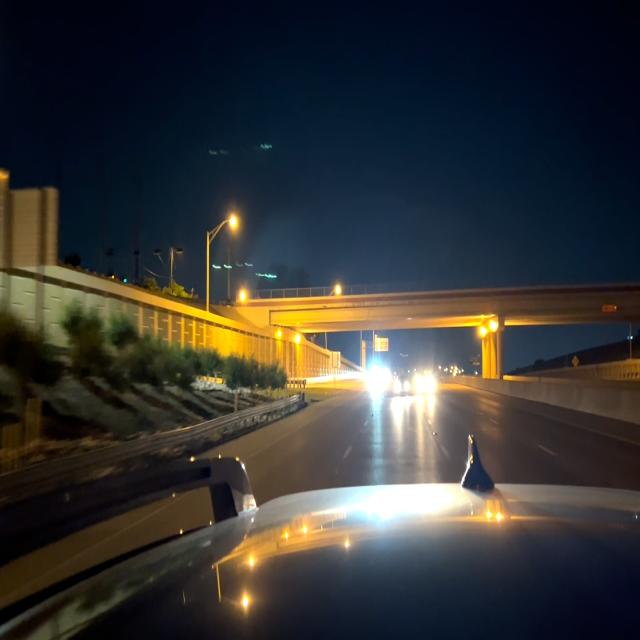back-of-sign: (0, 189, 54, 266)
